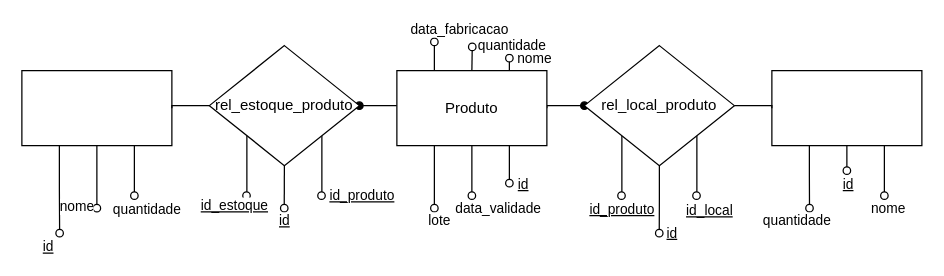
Some shapes in this 944 by 276 pixel diagram are drawn without their labels. Here are the shapes that lost their labels. From the top down, the centre of each, then its label:
At (96,107): "Estoque".
At (846,107): "Local".
